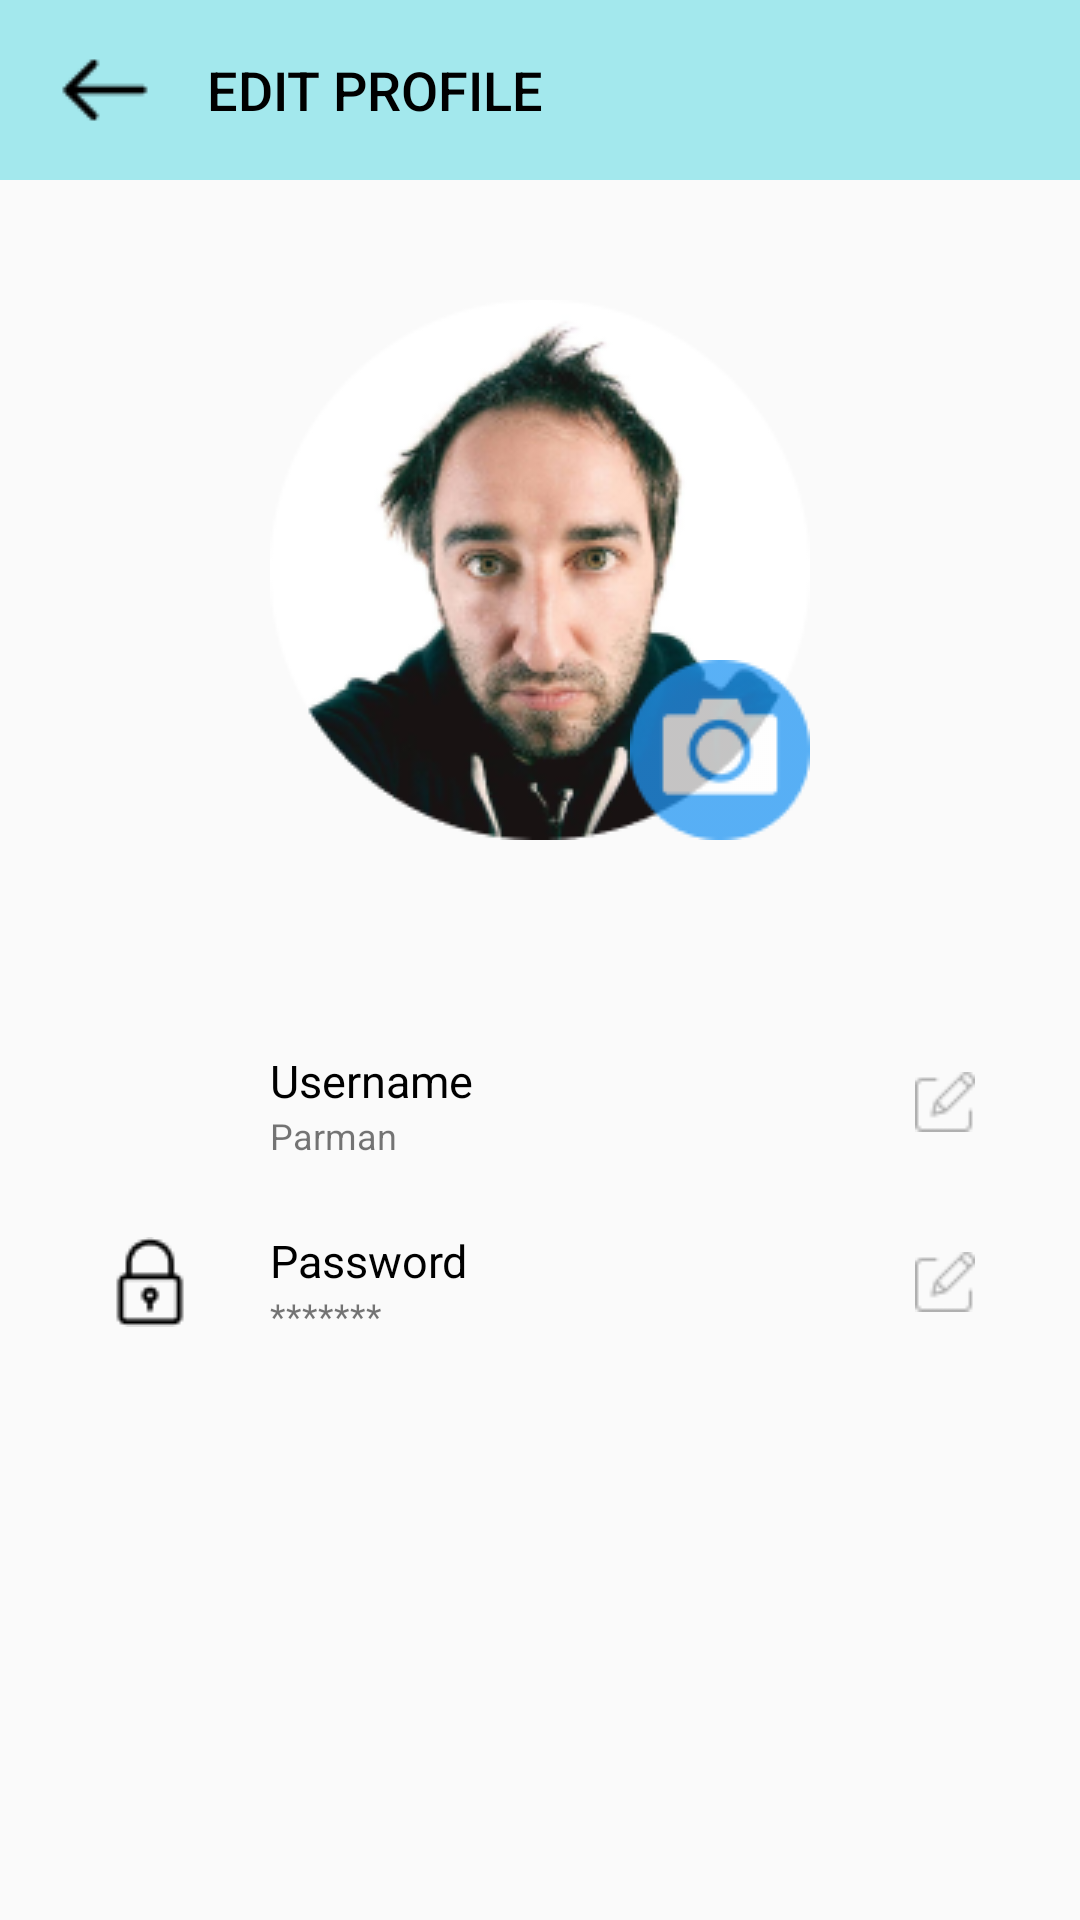

Point at icon controls on the screen. Image size 1080px×1920px, points as (x=x, y=y).
edit: (x=945, y=1102), (x=945, y=1282)
editpp: (x=720, y=750)
